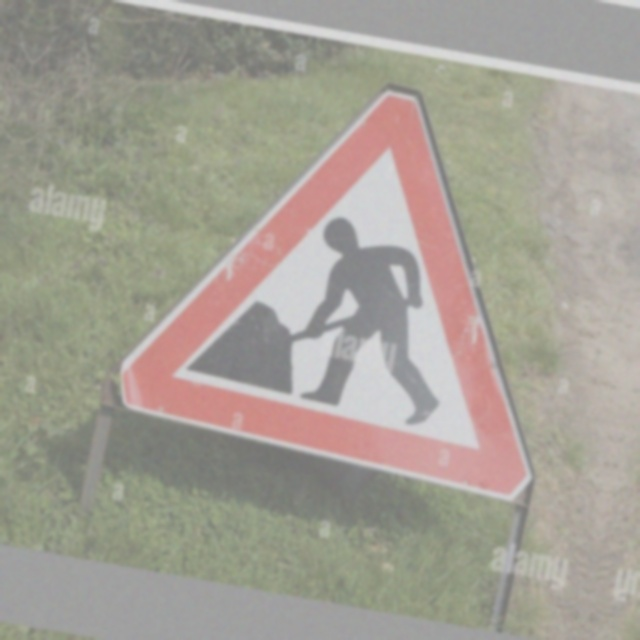Men_at_Work: (101, 47, 608, 505)
